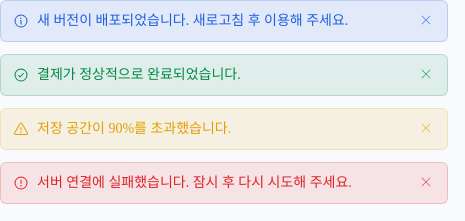
Test: banner demo › dismisses a banner on close button click
Click the button named "배너 닫기" next to "새 버전이 배포되었습니다. 새로고침 후 이용해 주세요." at (426, 20), box [417,11,435,29]
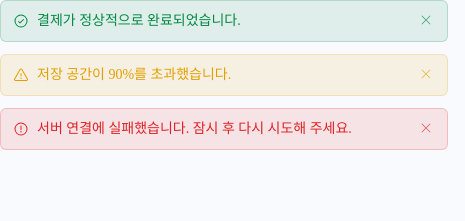
Result: the text "새 버전이 배포되었습니다" is gone
